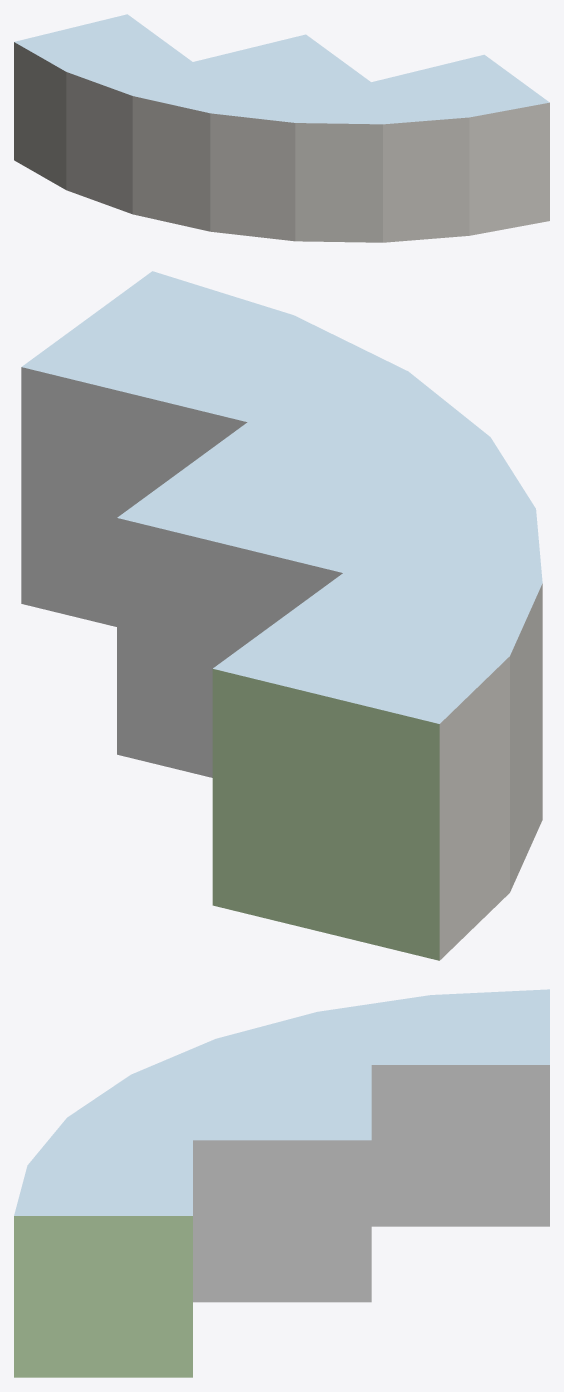
The model's file is Wall_Curve_Outer_4x4_Mid.glb.
3 renders of one model, top to bottom at view 1: azimuth 30°, elevation 25°; view 2: azimuth 150°, elevation 25°; view 3: azimuth 270°, elevation 25°, orthographic. The views are drawn at different scales.
Visible parts, largest first — view 1: Wall_Curve_Outer_4x4_Mid; view 2: Wall_Curve_Outer_4x4_Mid; view 3: Wall_Curve_Outer_4x4_Mid.
Part boxes in pixels (x1,y1,x2,y2): Wall_Curve_Outer_4x4_Mid: [14, 14, 549, 242]; Wall_Curve_Outer_4x4_Mid: [21, 271, 542, 960]; Wall_Curve_Outer_4x4_Mid: [14, 989, 549, 1377].
Bounding box in the file's own units: 300 × 100 × 300.
